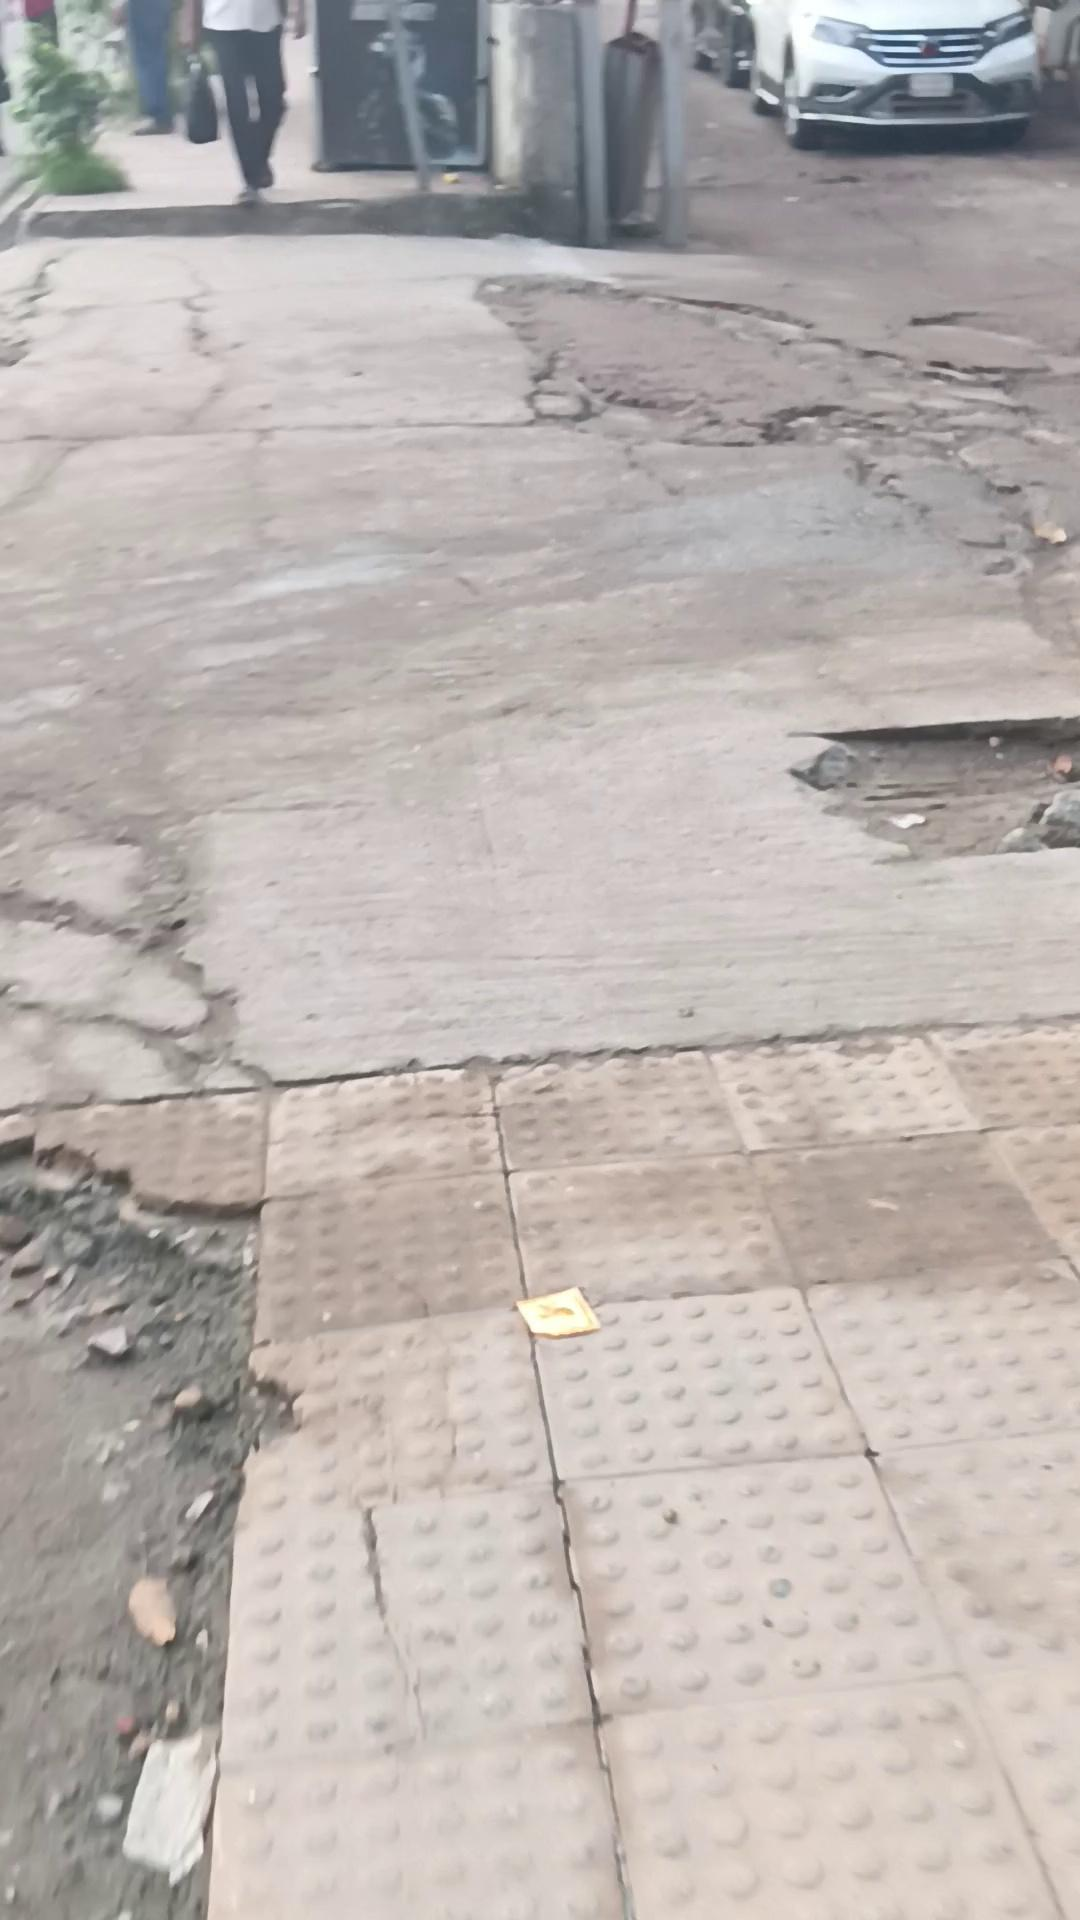Broken-road: (0, 222, 1080, 1920)
Car: (746, 0, 1044, 150)
Crosswalk: (17, 183, 558, 243)
Muddy road: (179, 0, 307, 204), (109, 0, 185, 135)
Obstacle: (385, 4, 435, 191)
